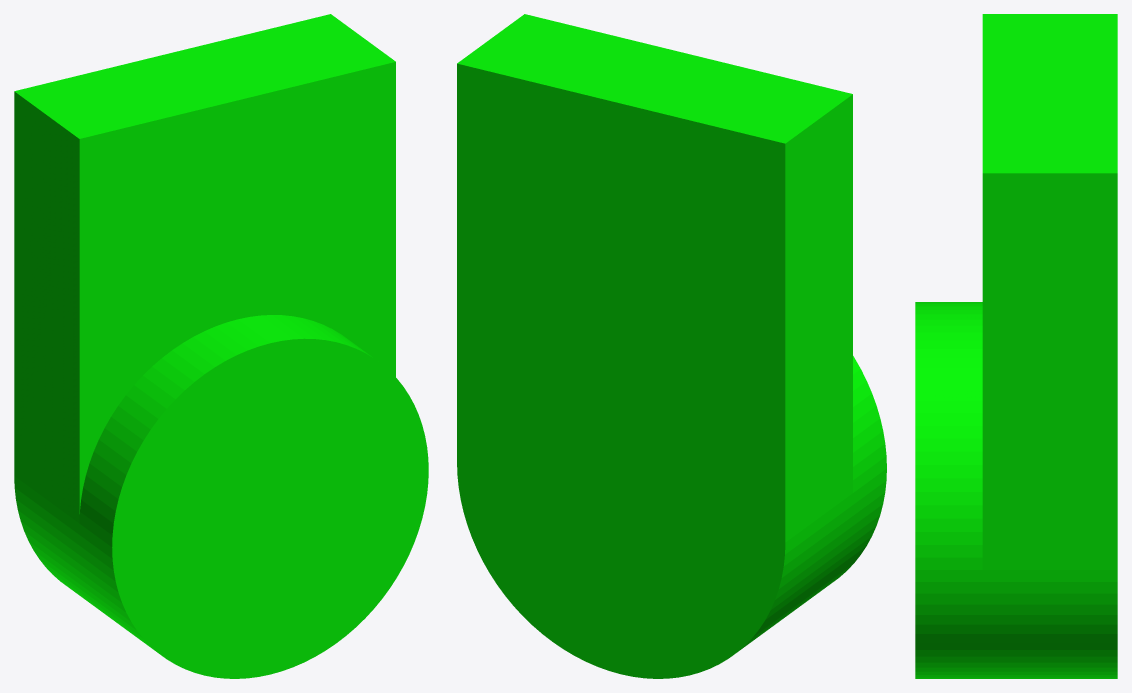
The model's file is back.dae.
3 views of the same model, side by side, from view 1: azimuth 30°, elevation 25°; view 2: azimuth 150°, elevation 25°; view 3: azimuth 270°, elevation 25° (orthographic). The views are drawn at different scales.
Visible parts, largest first — view 1: node; view 2: node; view 3: node.
Boxes of the visible parts, left/top/right/bottom form: node: left=14, top=14, right=428, bottom=678; node: left=457, top=14, right=886, bottom=678; node: left=915, top=14, right=1117, bottom=678.
Bounding box in the file's own units: 0.028 × 0.0465 × 0.015.
Materials: 1 (1 with a texture image).
